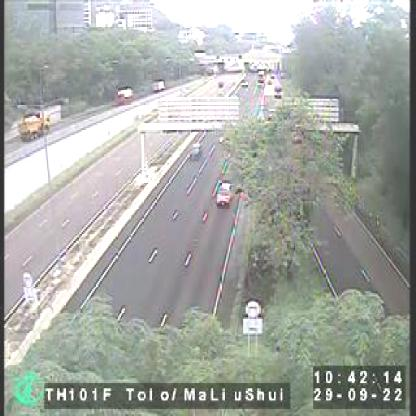Car: (216, 175, 234, 208), (187, 140, 200, 163)
Truck: (22, 106, 51, 144)
